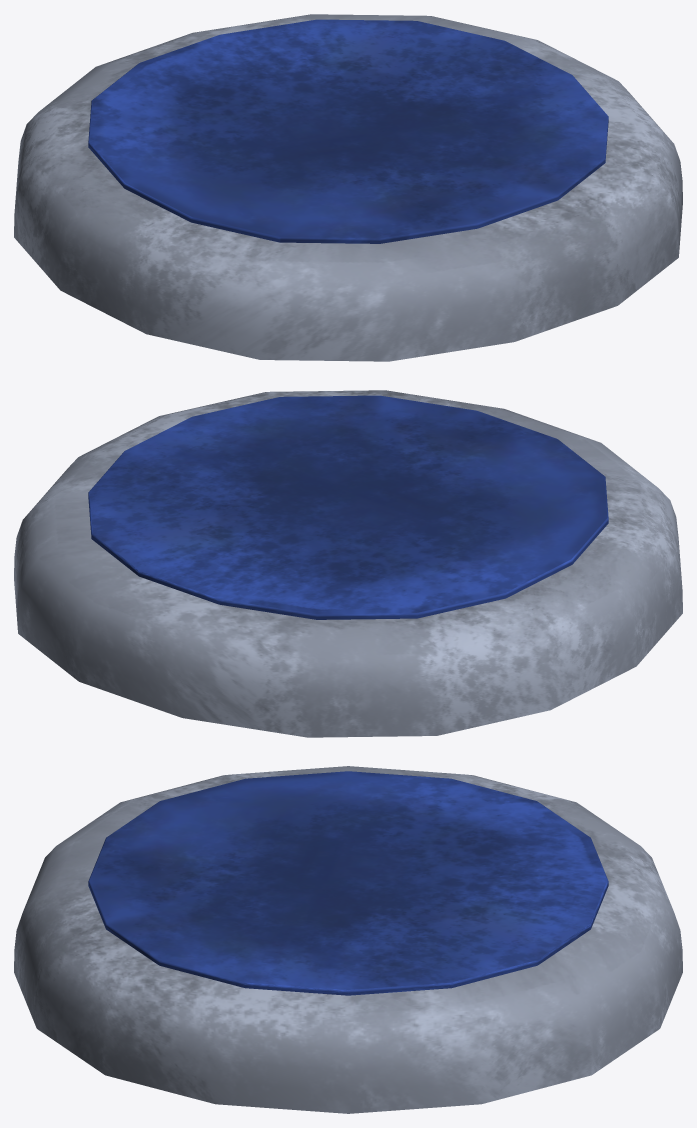
File: jump_pad.fbx
3 views of the same model, one above another, from view 1: azimuth 30°, elevation 25°; view 2: azimuth 150°, elevation 25°; view 3: azimuth 270°, elevation 25° (orthographic).
Parts seen in each view (by area): view 1: jump_pad_bottom, jump_pad_top; view 2: jump_pad_bottom, jump_pad_top; view 3: jump_pad_bottom, jump_pad_top.
Boxes of the visible parts, left/top/right/bottom form: jump_pad_bottom: left=14, top=14, right=682, bottom=361; jump_pad_top: left=88, top=19, right=608, bottom=243; jump_pad_bottom: left=14, top=390, right=682, bottom=737; jump_pad_top: left=88, top=395, right=608, bottom=619; jump_pad_bottom: left=14, top=766, right=682, bottom=1113; jump_pad_top: left=88, top=771, right=608, bottom=995.
Bounding box in the file's own units: 183 × 28.18 × 183.
1 material, 1 textured.
